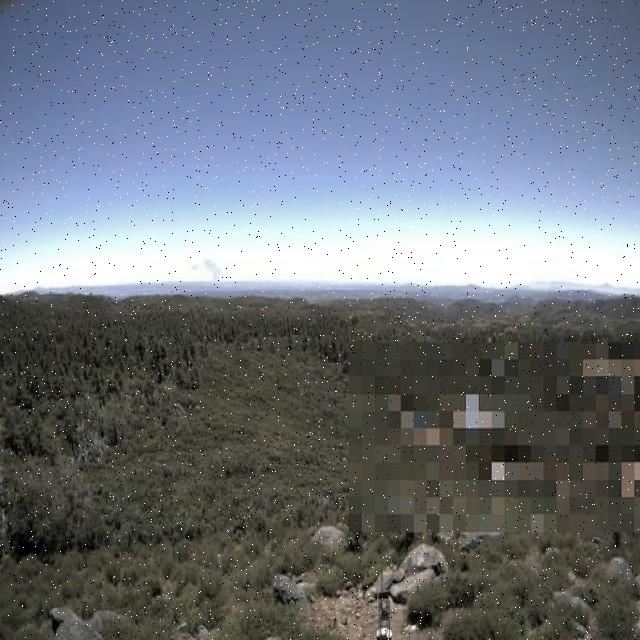smoke: (189, 254, 225, 292)
